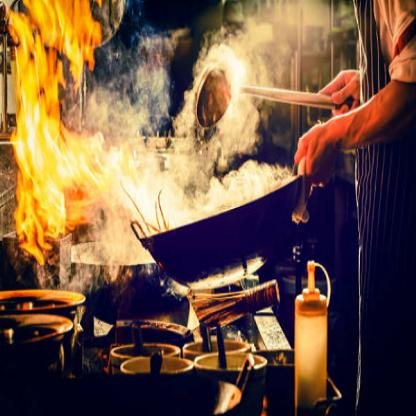fire: (8, 0, 118, 252)
smoke: (70, 11, 295, 232), (66, 178, 154, 305)
